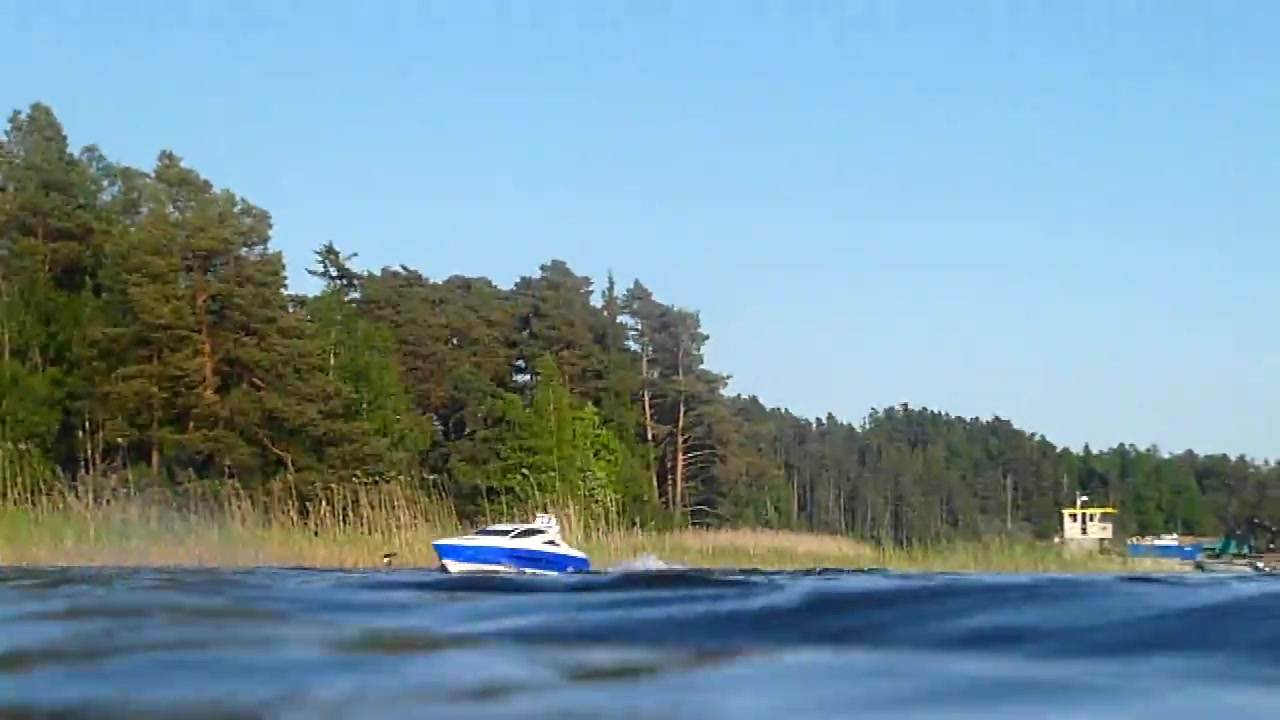boat: (426, 510, 597, 584)
